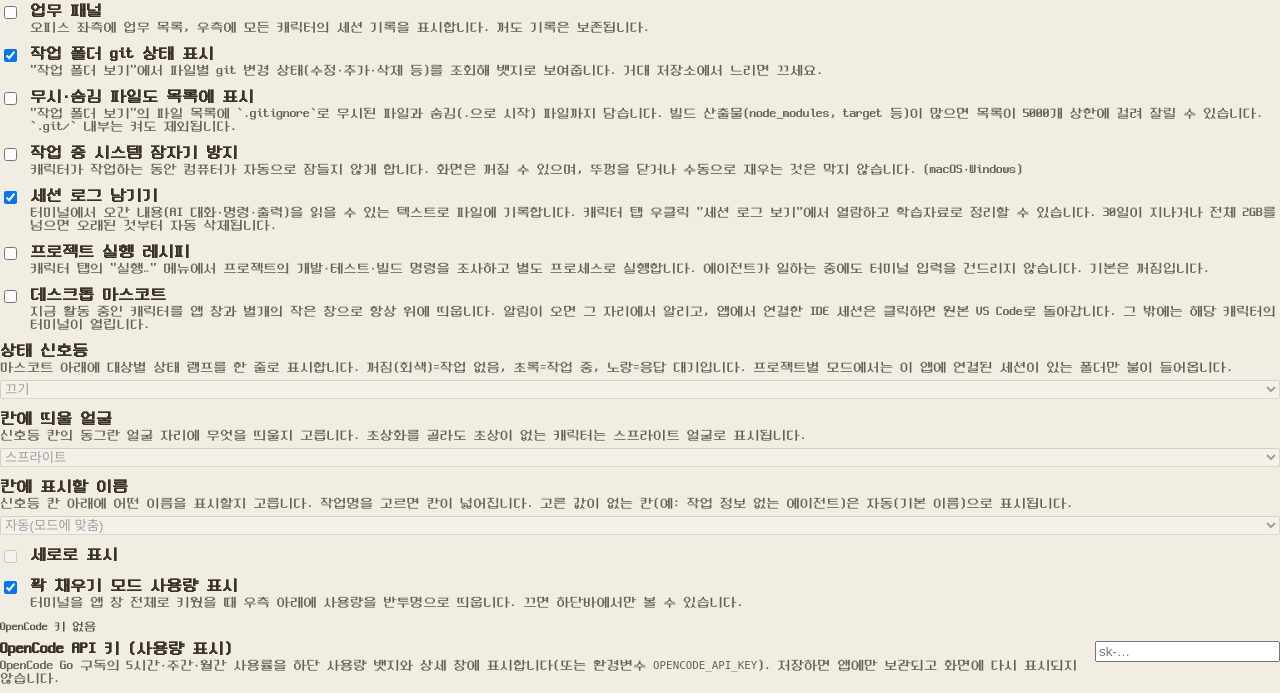
Test case: SystemTab · OpenCode API 키 › 상태를 보여주고, 저장은 셋째 칸만 채운다
Check: the text "OpenCode 키 없음" is shown, box [0,621,96,633]
Check: the text "OpenCode API 키 (사용량 표시)" is shown, box [0,641,232,657]
Type "sk-oc-1" into the password field with placeholder "sk-…" at (1188, 652), box [1095,641,1279,662]
(page scrolled)
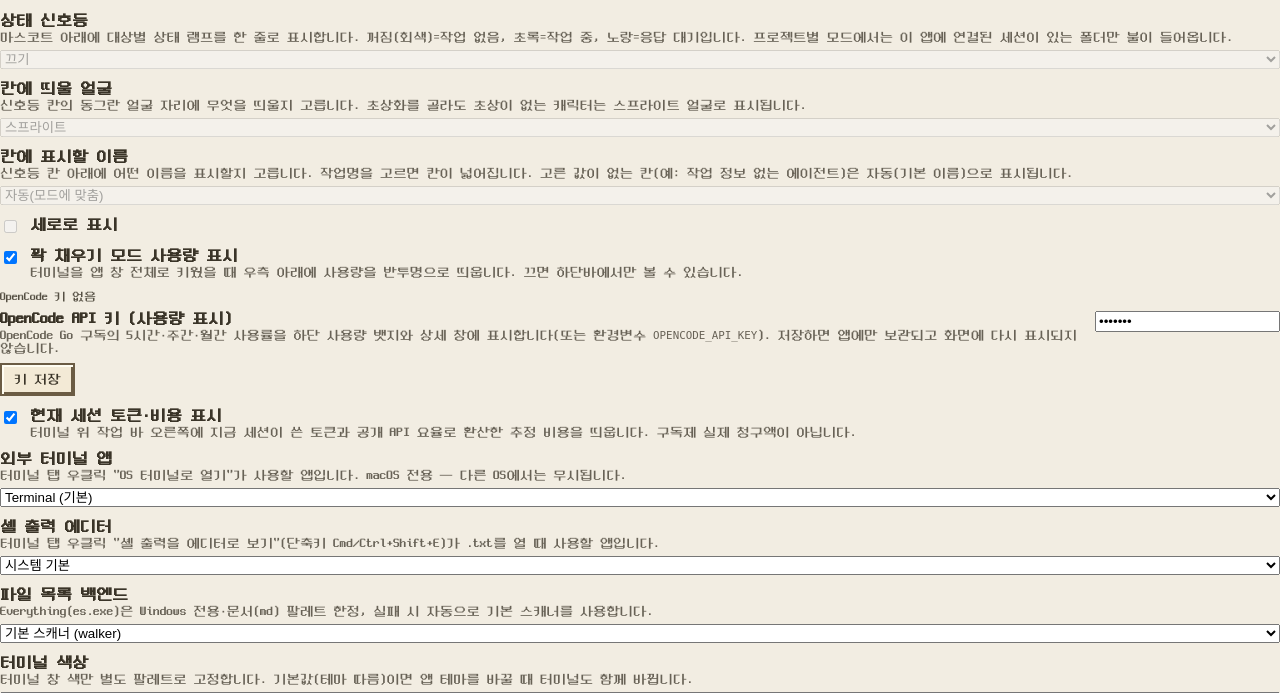
Click the button "키 저장" at (37, 380), box [0,363,75,396]
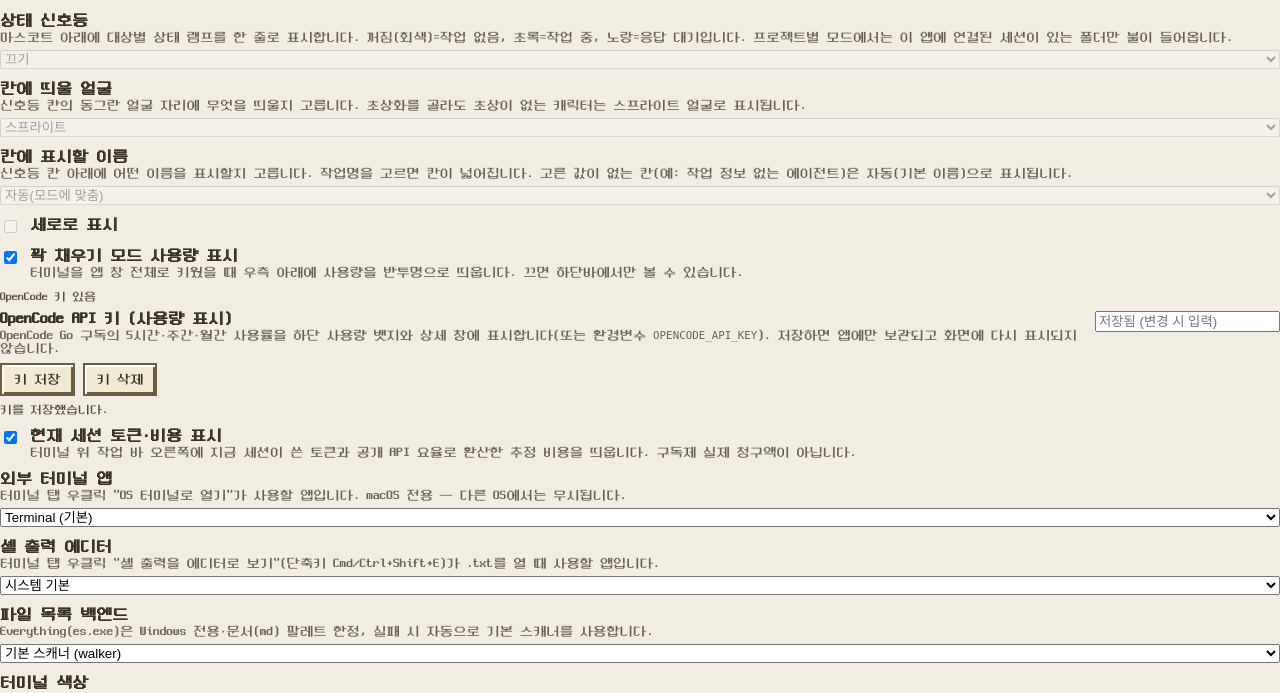
Check: the text "OpenCode 키 있음" is shown, box [0,291,96,303]
